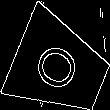O_SE: (31, 37, 89, 97)
